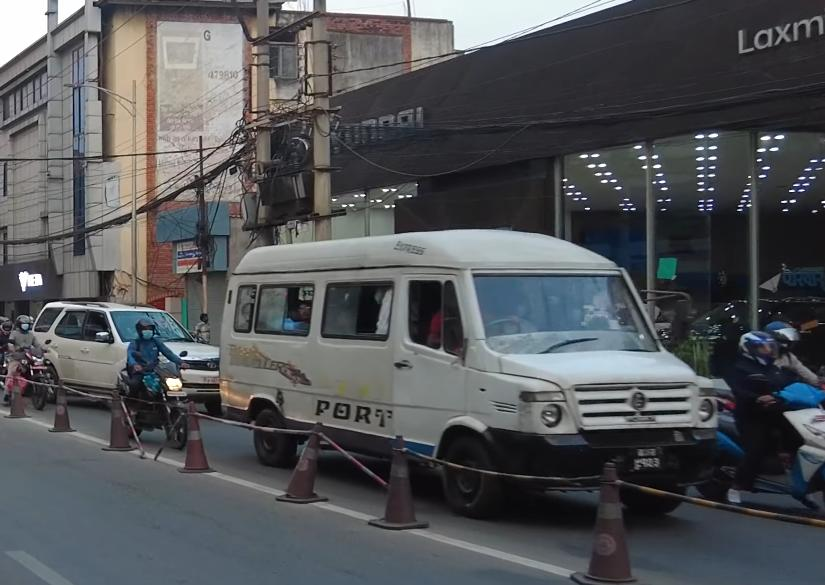SUV: (32, 293, 227, 405)
bike: (697, 385, 825, 508), (107, 348, 201, 448)
micro_bus: (217, 217, 717, 525)
